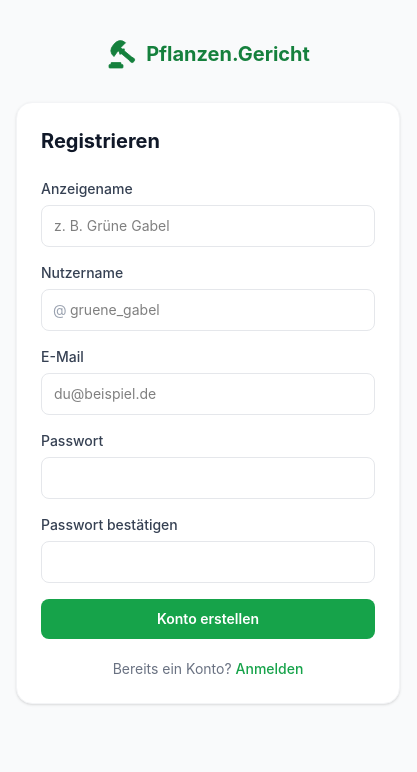
it: RegisterView › given the password is too short › shows an error
Type "valid_name" into the field with id "username" at (208, 310), box [41,289,375,331]
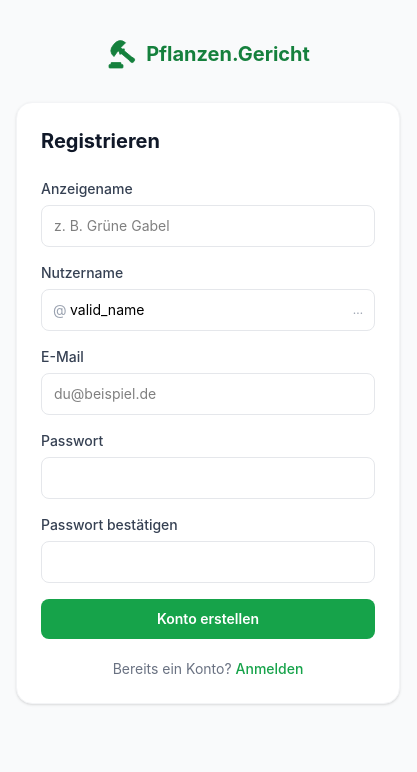
Type "short" into the password field labelled "Passwort" at (208, 478), box [41,457,375,499]
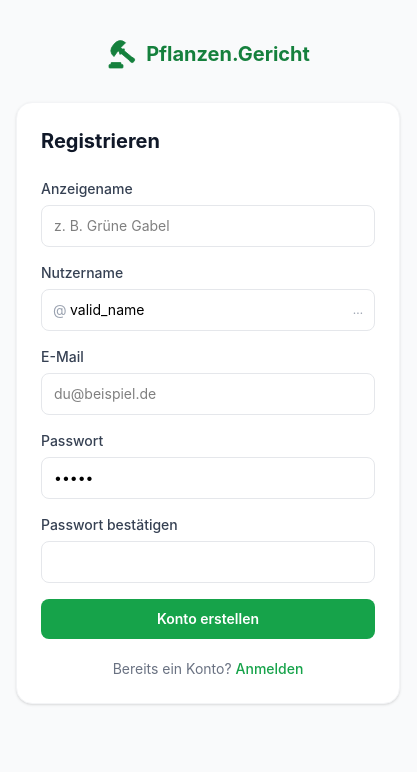
Type "short" into the password field labelled "Passwort bestätigen" at (208, 562), box [41,541,375,583]
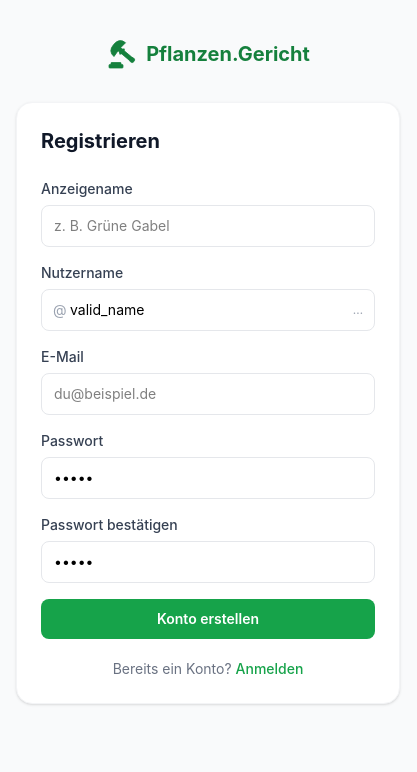
Submit the form, box [41,179,375,639]
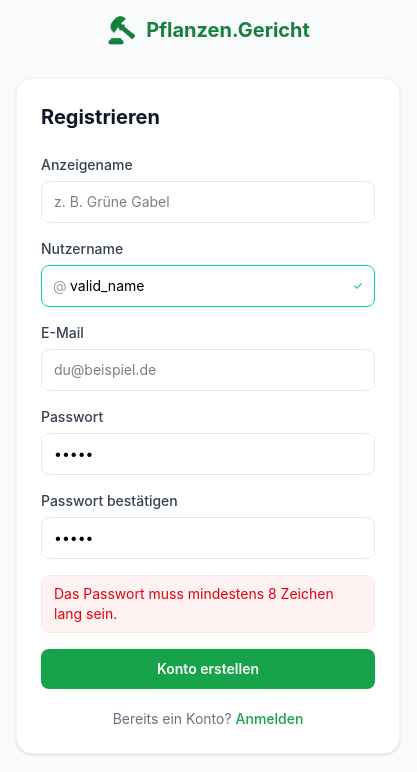
Result: the text "mindestens 8" is shown at [54,585,334,622]
